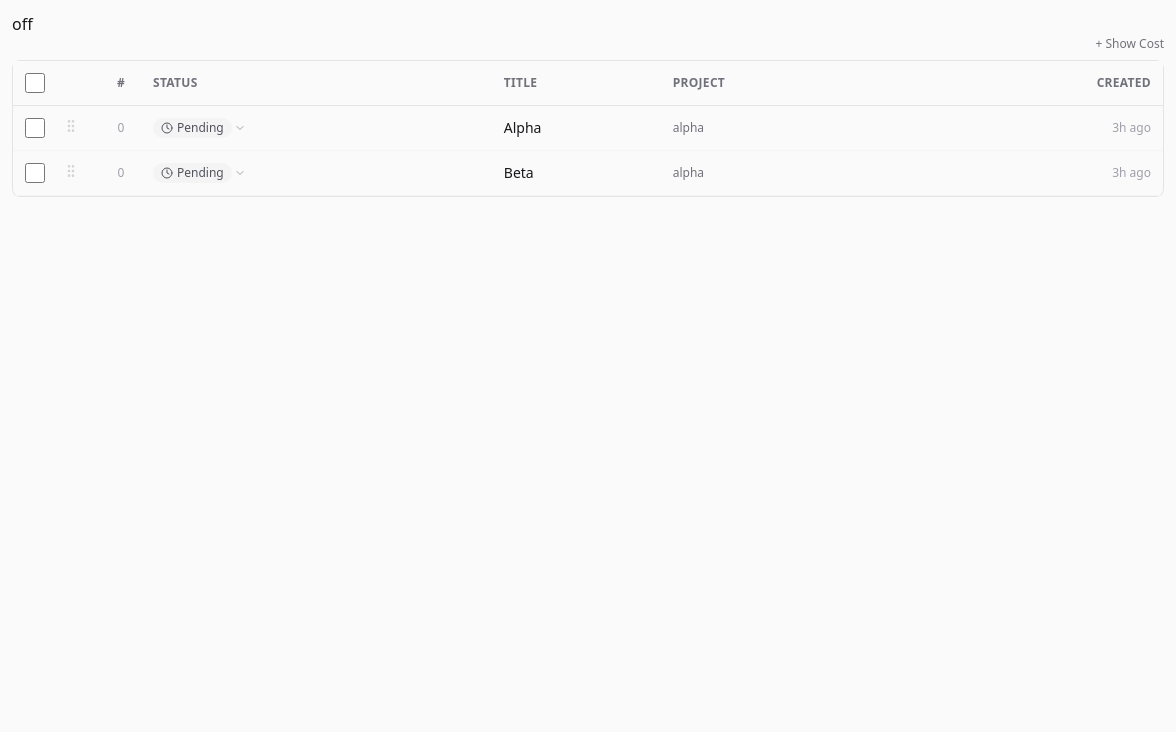
Test: TaskList selection mode › enters selection mode when a checkbox is ticked outside it
Click the checkbox named "Vybrat Alpha" at [35, 128], box [25,118,45,138]
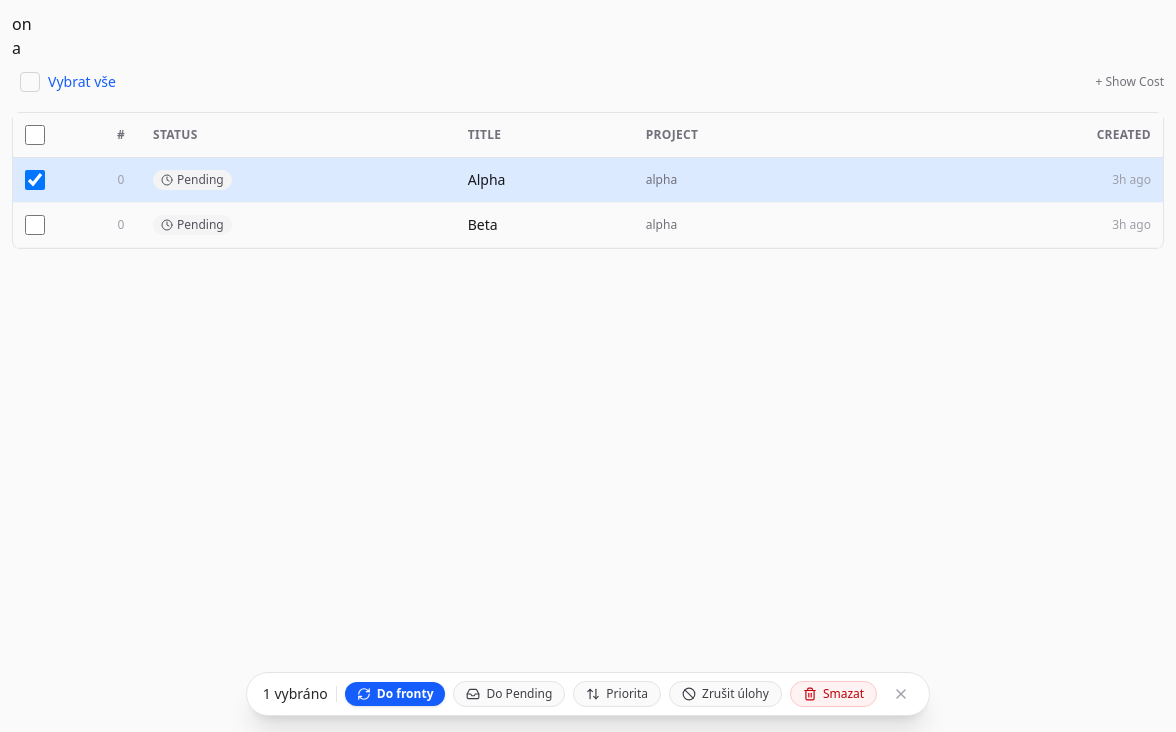
Result: the text with test id "mode" reads "on" at [12,13,32,35]
# Row taps now toggle rather than navigate.
Click the row "0 Pending Beta alpha 3h ago" at [588, 225], box [13,202,1163,248]
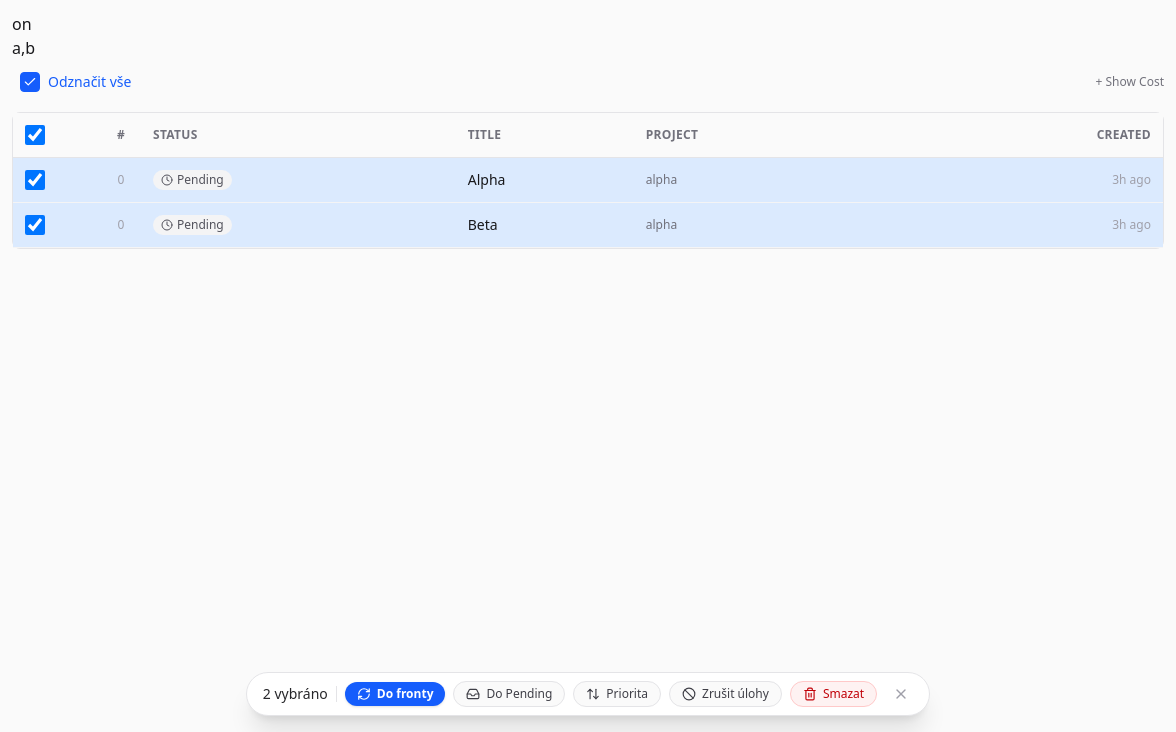
Result: the text with test id "selected" reads "a,b" at [12,37,35,59]
